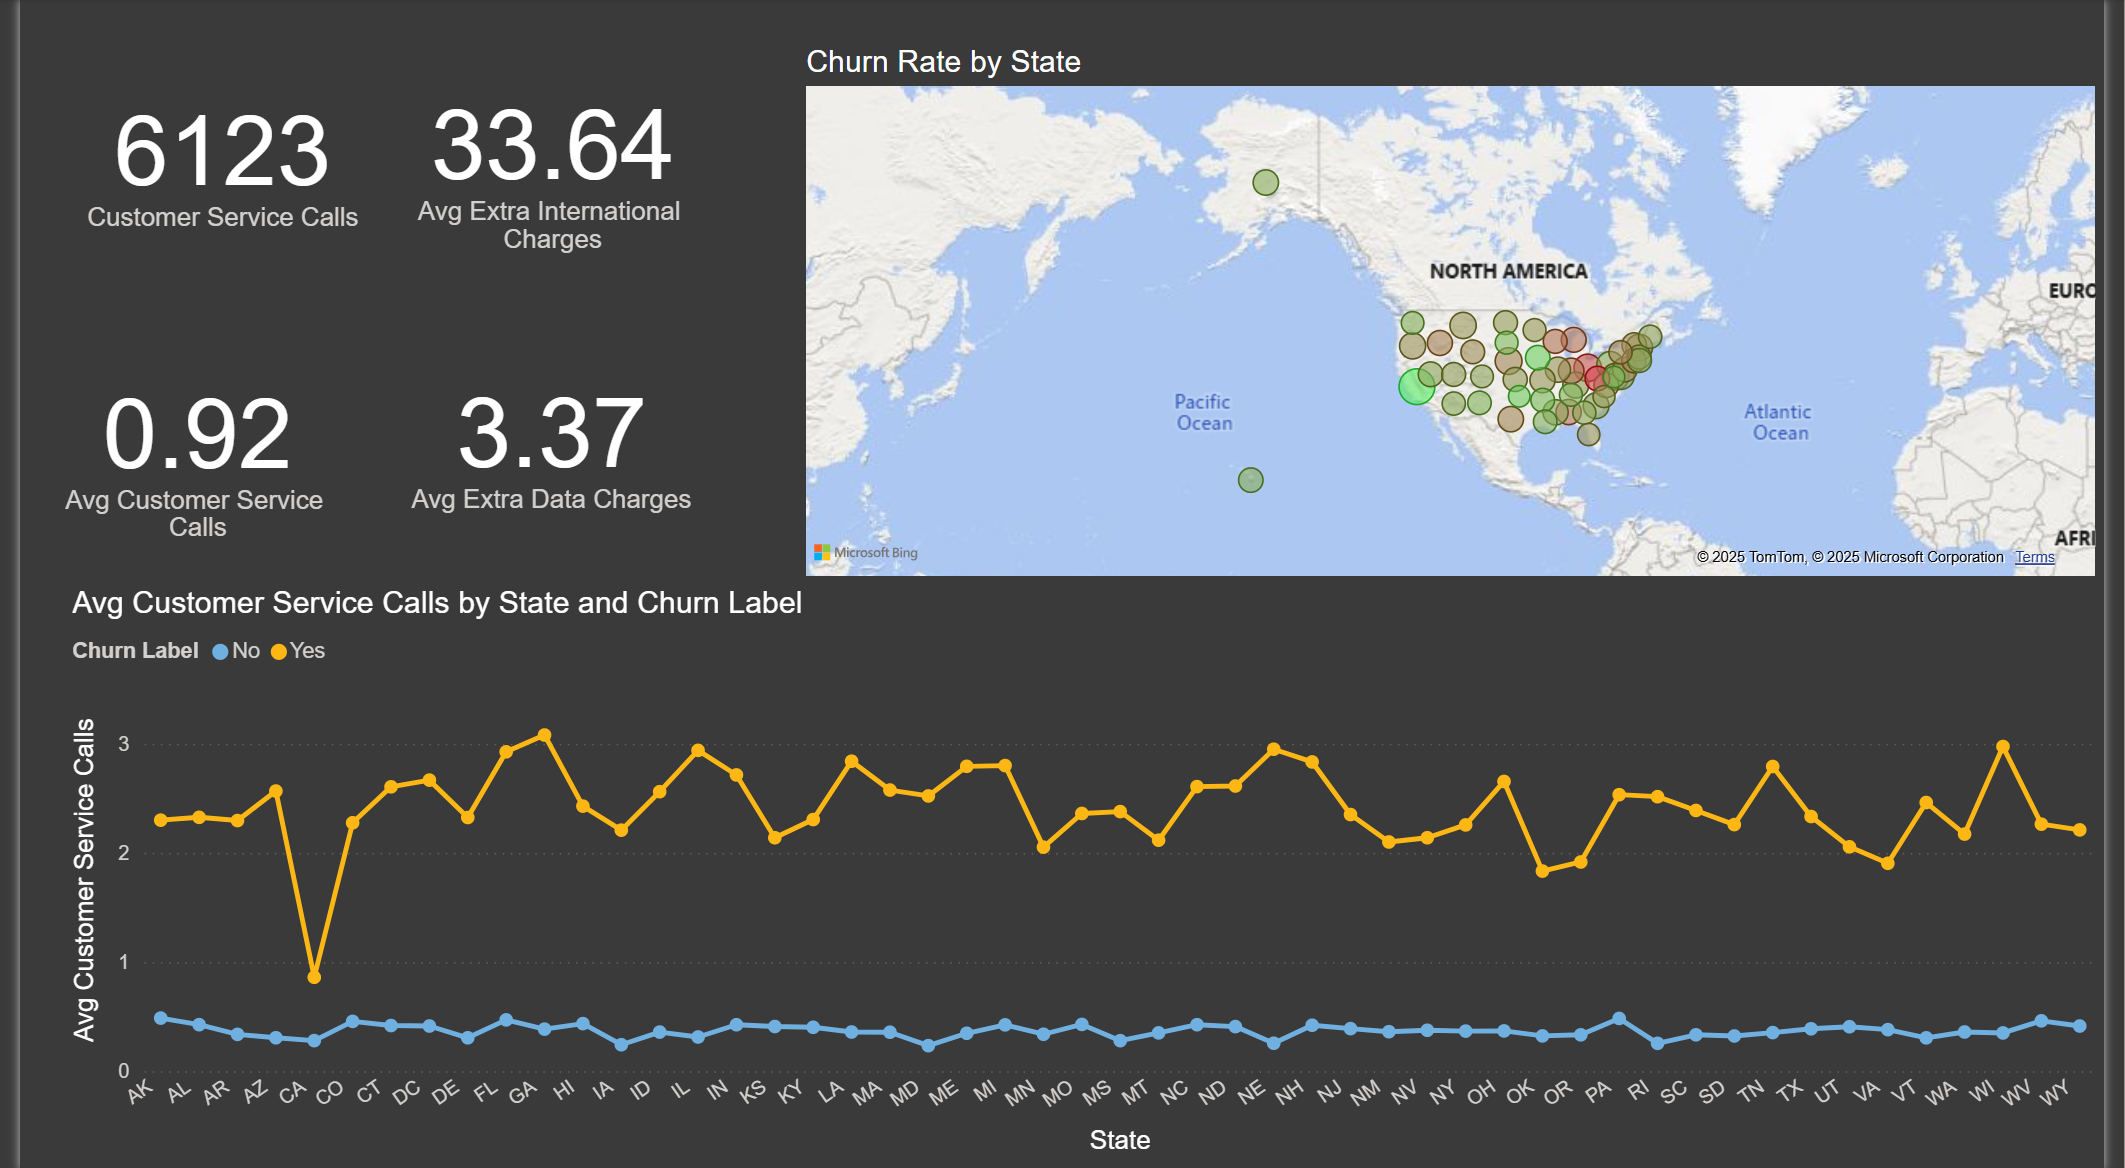

This screenshot's page, from the dashboard's own definition file:
{"tool":"powerbi","page":{"name":"Insights","canvas":[1280,720],"ordinal":9},"visuals":[{"type":"card","fields":{"Values":["Sum(Databel - Data.Customer Service Calls)"]},"box":[27.6,6.1,194.4,182.2],"z":0},{"type":"card","fields":{"Values":["Databel - Data.Avg Customer Service Calls"]},"box":[12.2,186.8,194.4,168.4],"z":1000},{"type":"card","fields":{"Values":["Databel - Data.Avg Extra International Charges"]},"box":[222,0,211.3,186.8],"z":2000},{"type":"card","fields":{"Values":["Databel - Data.Avg Extra Data Charges"]},"box":[209.8,165.4,234.3,209.8],"z":3000},{"type":"lineChart","fields":{"Category":["Databel - Data.State"],"Y":["Databel - Data.Avg Customer Service Calls"],"Series":["Databel - Data.Churn Label"]},"box":[27.2,359.9,1252.8,355],"z":4000},{"type":"map","fields":{"Category":["Databel - Data.State"],"Size":["Databel - Data.Churn Rate"]},"box":[477.7,27.6,802.3,332.2],"z":5000}]}

Visuals, with their boxes in screenshot pixels (x1, y1, x2, y2), scaled from the page's 1280x720 canvas onto the 2125x1168 screenshot:
card - Sum(Databel - Data.Customer Service Calls): region(46, 10, 369, 305)
card - Databel - Data.Avg Customer Service Calls: region(20, 303, 343, 576)
card - Databel - Data.Avg Extra International Charges: region(369, 0, 719, 303)
card - Databel - Data.Avg Extra Data Charges: region(348, 268, 737, 609)
lineChart - Databel - Data.State x Databel - Data.Avg Customer Service Calls: region(45, 584, 2124, 1160)
map - Databel - Data.State x Databel - Data.Churn Rate: region(793, 45, 2124, 584)
